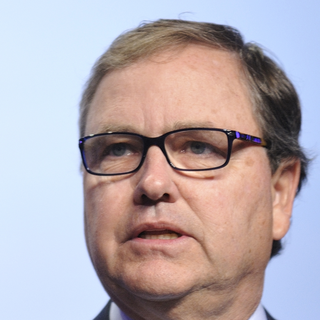eye: (172, 139, 222, 158), (94, 140, 136, 162)
